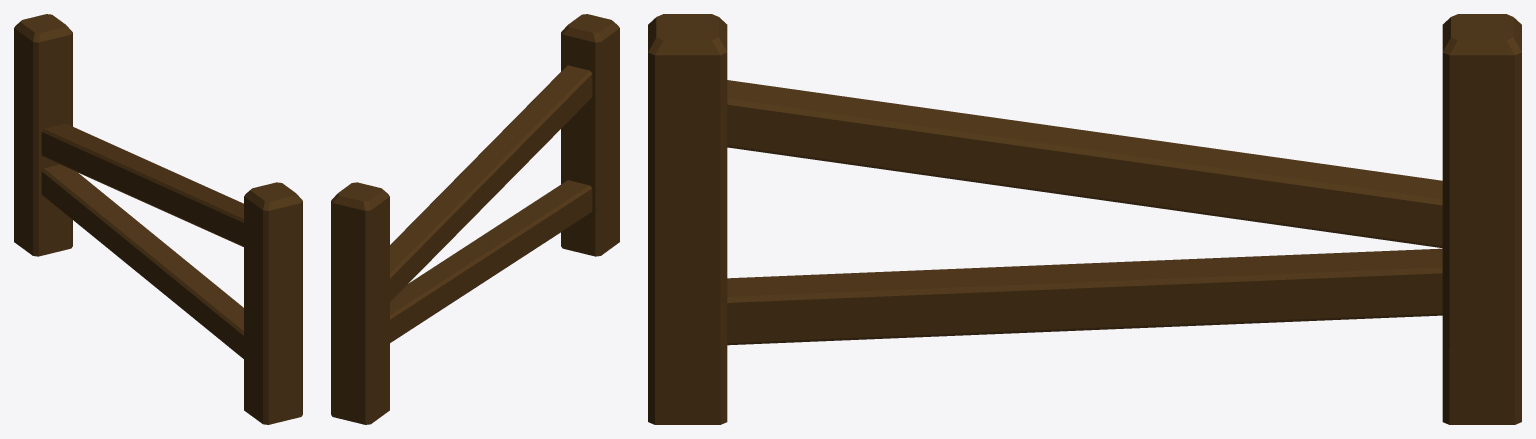
The model's file is fence 2.fbx.
The picture shows the model from 3 angles, left to right: view 1: azimuth 30°, elevation 25°; view 2: azimuth 150°, elevation 25°; view 3: azimuth 270°, elevation 25°; orthographic projection. The views are drawn at different scales.
Parts seen in each view (by area): view 1: Cube.019; view 2: Cube.019; view 3: Cube.019.
Part boxes in pixels (left/top/right/bottom): Cube.019: left=14, top=14, right=302, bottom=424; Cube.019: left=331, top=14, right=619, bottom=424; Cube.019: left=648, top=14, right=1521, bottom=424.
Bounding box in the file's own units: 14.49 × 76.66 × 159.
